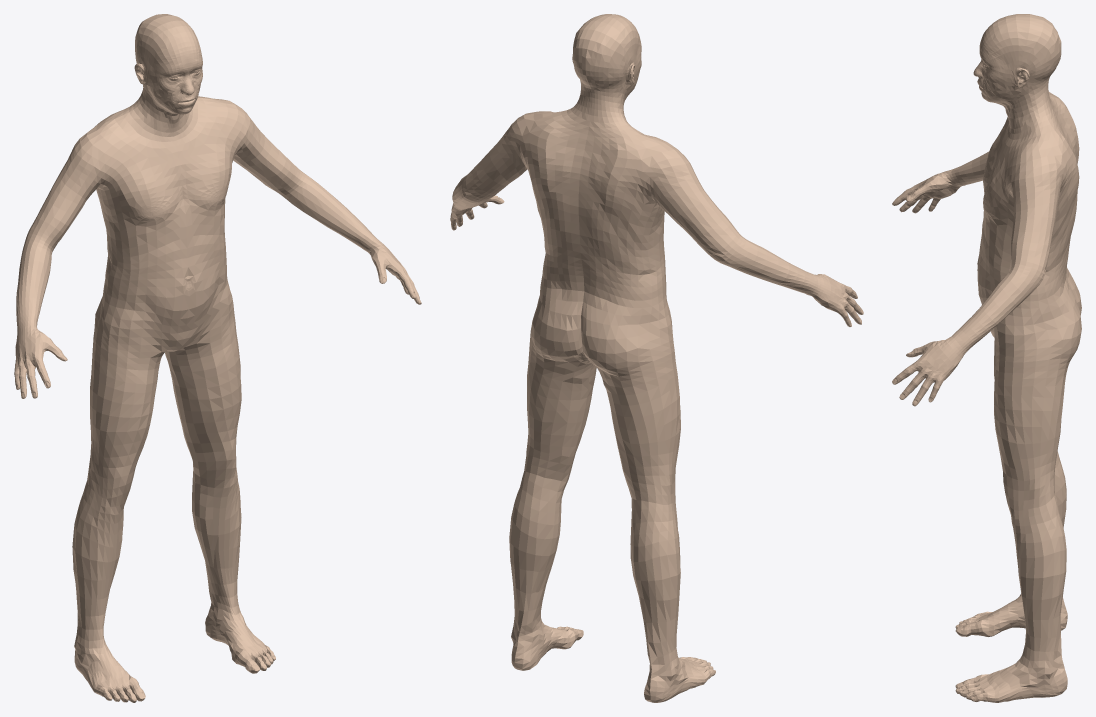
Rendered from male-mature-heavy-medium.glb.
3 renders of one model, left to right at view 1: azimuth 30°, elevation 25°; view 2: azimuth 150°, elevation 25°; view 3: azimuth 270°, elevation 25°, orthographic.
Parts seen in each view (by area): view 1: world; view 2: world; view 3: world.
Boxes of the visible parts, left/top/right/bottom form: world: left=14, top=14, right=421, bottom=702; world: left=450, top=14, right=863, bottom=702; world: left=892, top=14, right=1081, bottom=702.
Size of the model in its own units: 1.25 by 1.94 by 0.5163.
